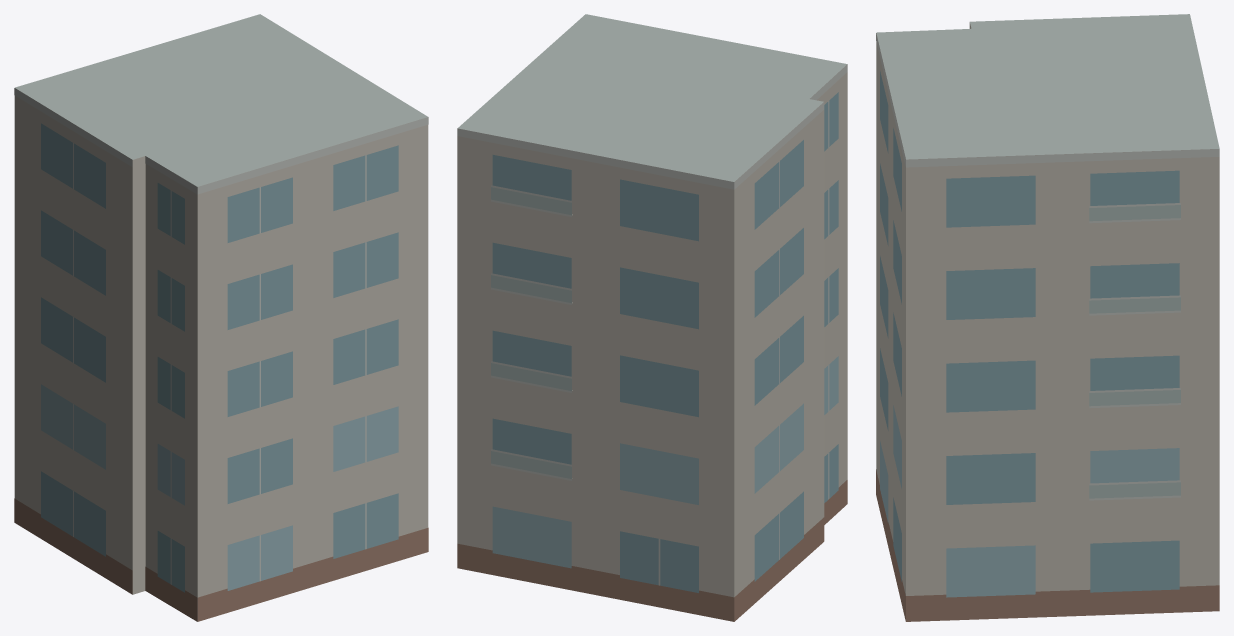
The model's file is survey-upis-32655258.glb.
3 views of the same model, side by side, from view 1: azimuth 30°, elevation 25°; view 2: azimuth 150°, elevation 25°; view 3: azimuth 270°, elevation 25° (orthographic). The views are drawn at different scales.
Parts seen in each view (by area): view 1: survey-upis-32655258.tmp; view 2: survey-upis-32655258.tmp; view 3: survey-upis-32655258.tmp.
Part boxes in pixels (x1,y1,x2,y2): survey-upis-32655258.tmp: [14, 14, 428, 621]; survey-upis-32655258.tmp: [457, 14, 847, 621]; survey-upis-32655258.tmp: [876, 14, 1219, 621].
Bounding box in the file's own units: 9.46 × 14 × 9.44.
